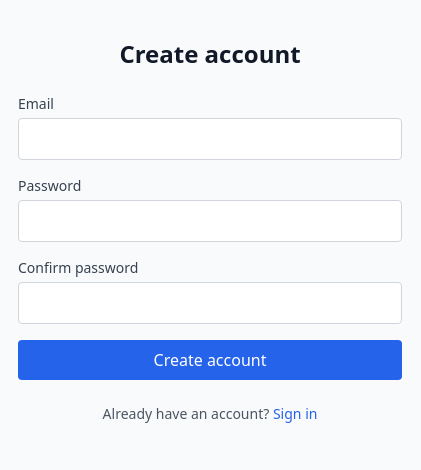
Test case: RegisterPage › shows error when password has no lowercase letter
This screenshot has width=421, height=470.
STR0NG!PASS#1 — uppercase + digit + special, no lowercase
Step 1. Type "STR0NG!PASS#1" into the password field labelled "Password" → (210, 221), box [18,200,402,242]
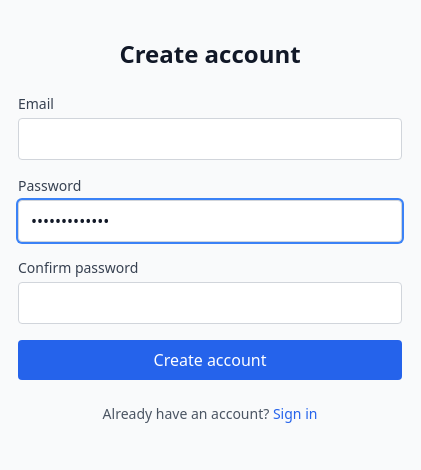
Step 2. Click the button "Create account" → click(210, 360), box [18,340,402,380]
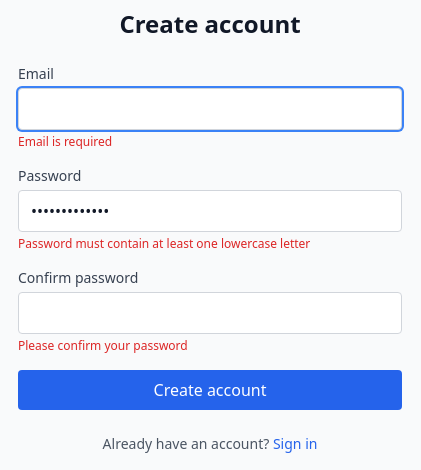
expect the text "Password must contain at least one lowercase letter" is shown: met, box [18,235,310,252]
